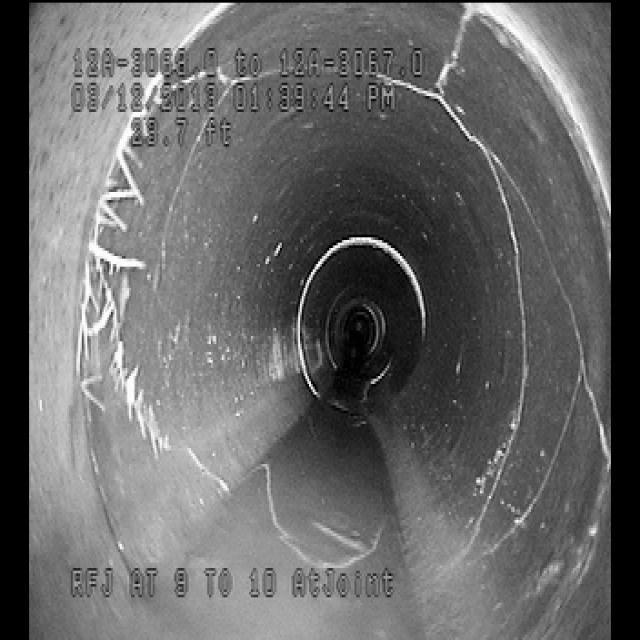Crack: (441, 75, 587, 521)
